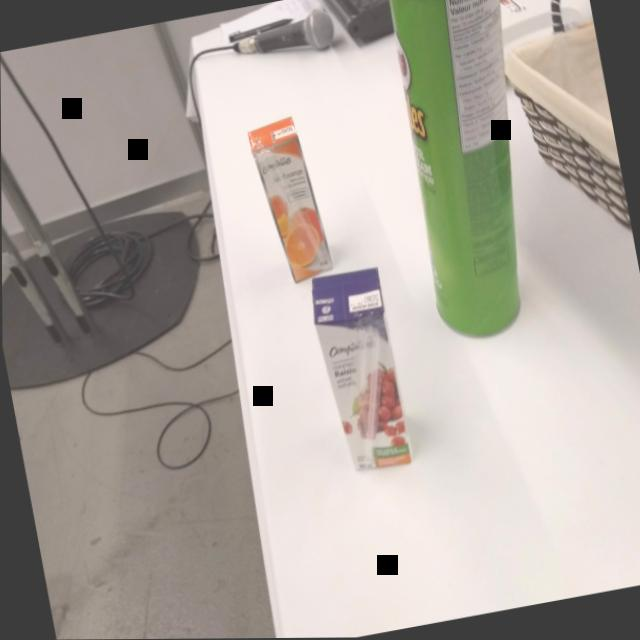grape_juice: (300, 257, 421, 485)
orange_juice: (239, 103, 339, 292)
